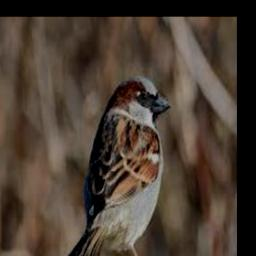Sparrow: (61, 75, 172, 256)
